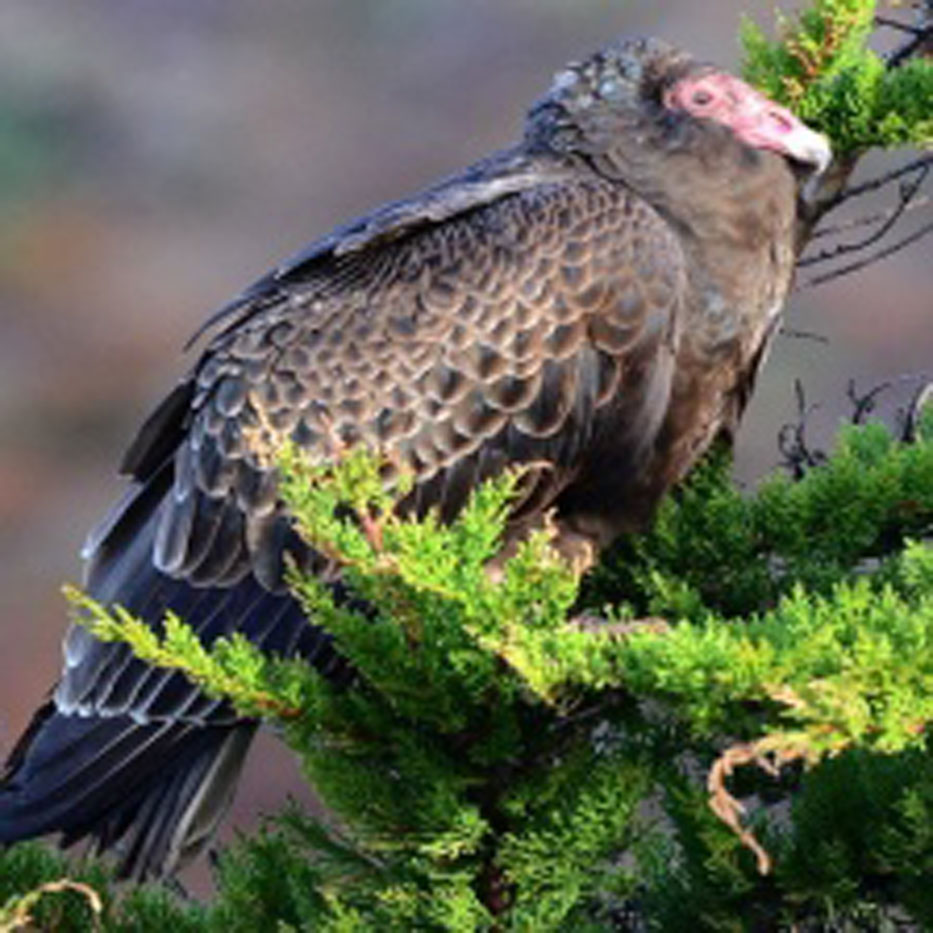Pengoyak Daging: (783, 122, 849, 187)
